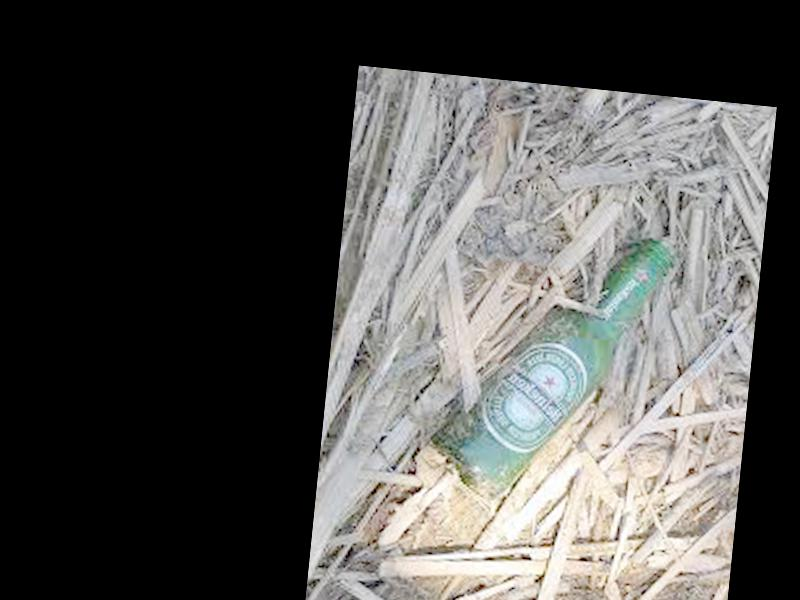Beer: (429, 216, 674, 513)
